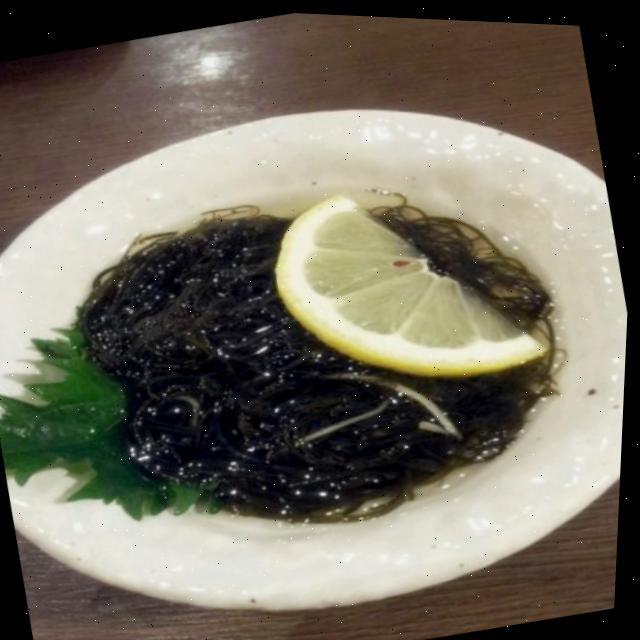蔬菜料理: (0, 78, 624, 613)
